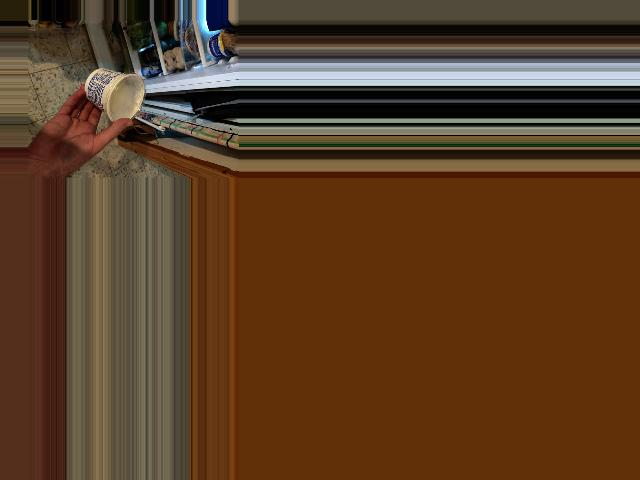cotage: (81, 72, 144, 119)
